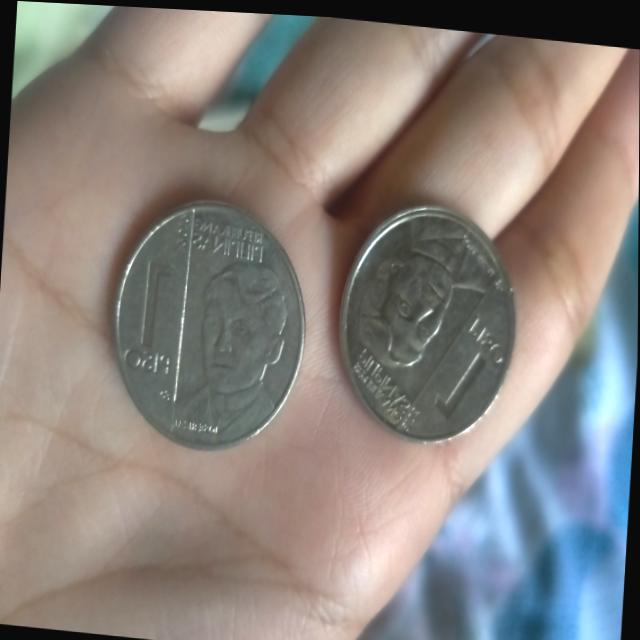1_New_Front: (128, 237, 291, 418), (362, 227, 510, 419)
